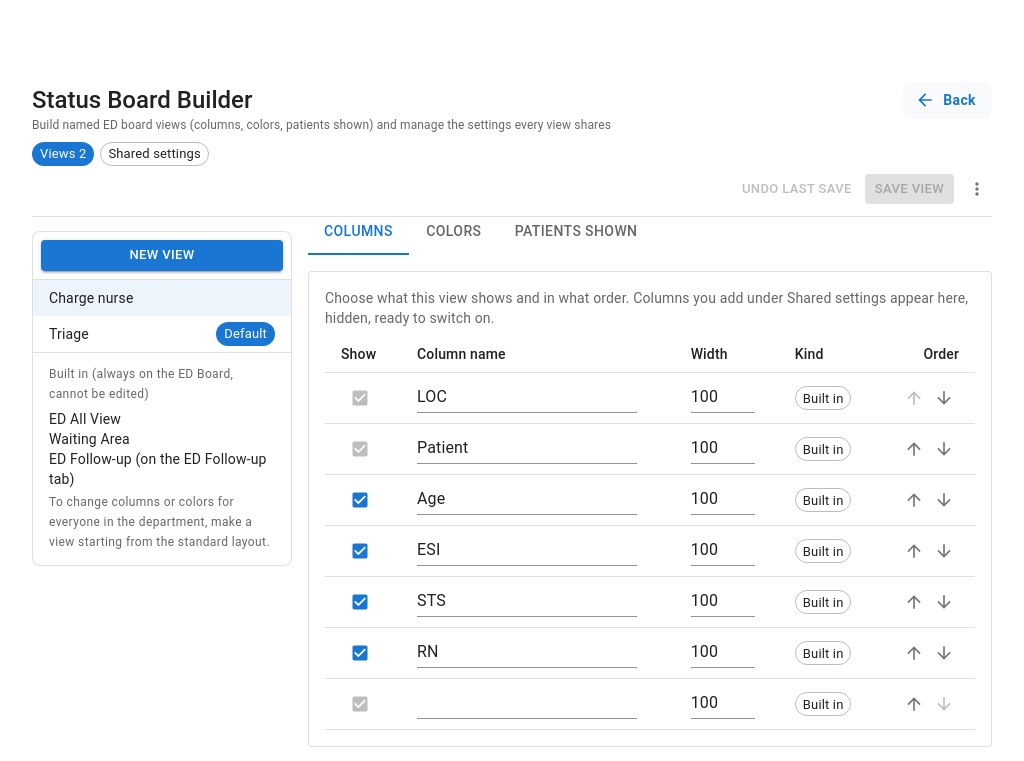
Test case: conditions on the patient › choosing a status starts on the clinic's first status
Expected: the button with test id "view-item-1" is shown, [33,280,291,316]
Click the tab "Patients shown" at {"x": 576, "y": 231}, box [499,207,653,255]
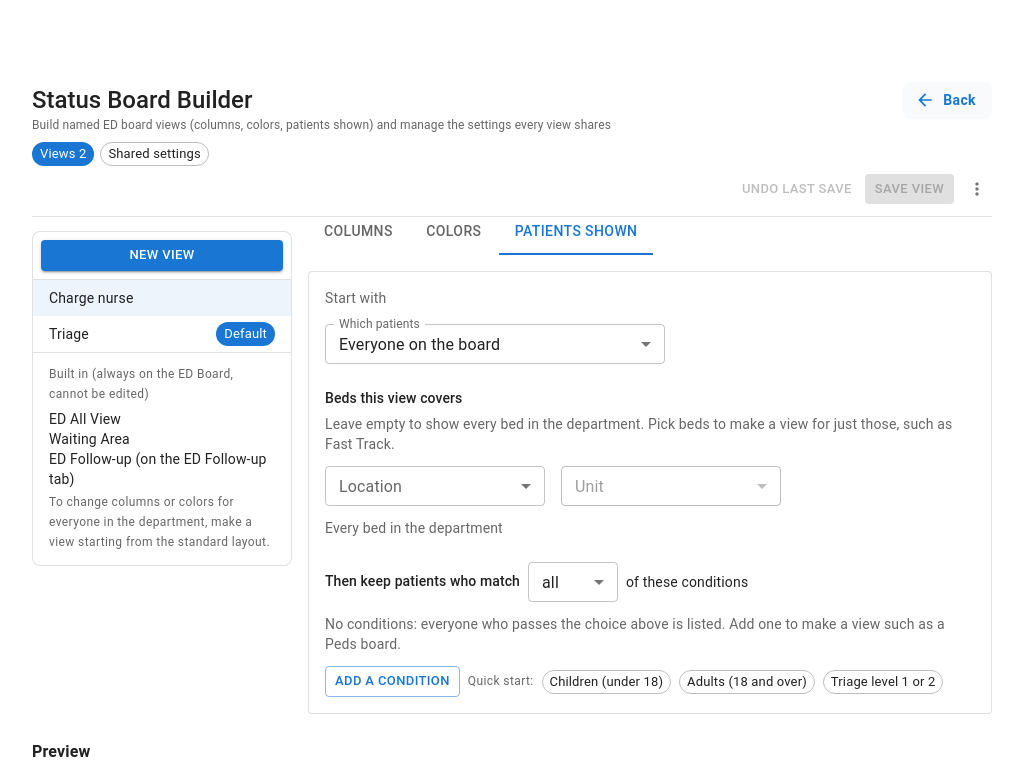
Click the button with test id "add-condition" at {"x": 392, "y": 682}, box [325,666,460,697]
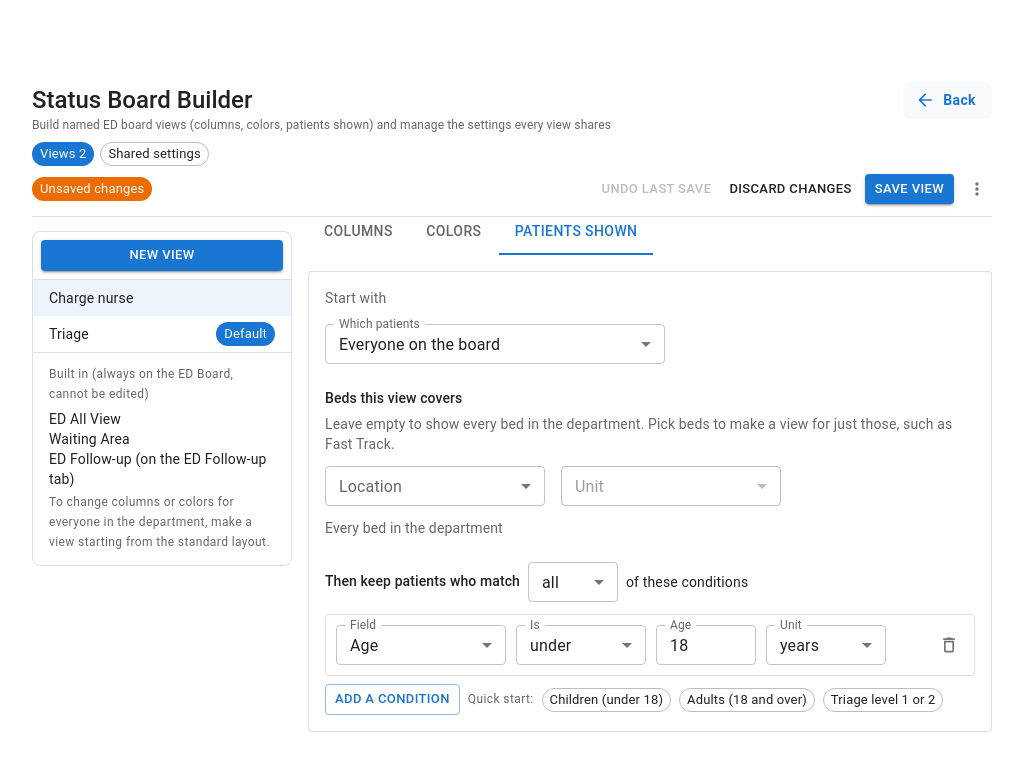
Press the mouse on the dropdown labelled "Age" at {"x": 364, "y": 645}, box [350,636,378,655]
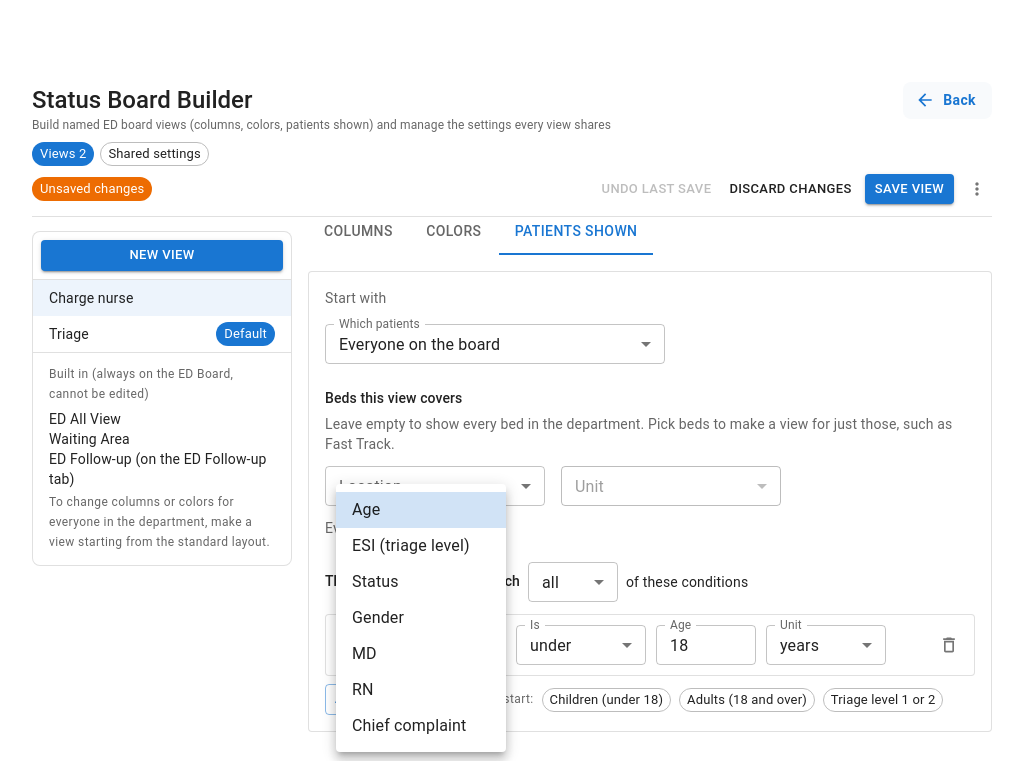
Click the option "Status" at {"x": 375, "y": 582}, box [352,572,399,591]
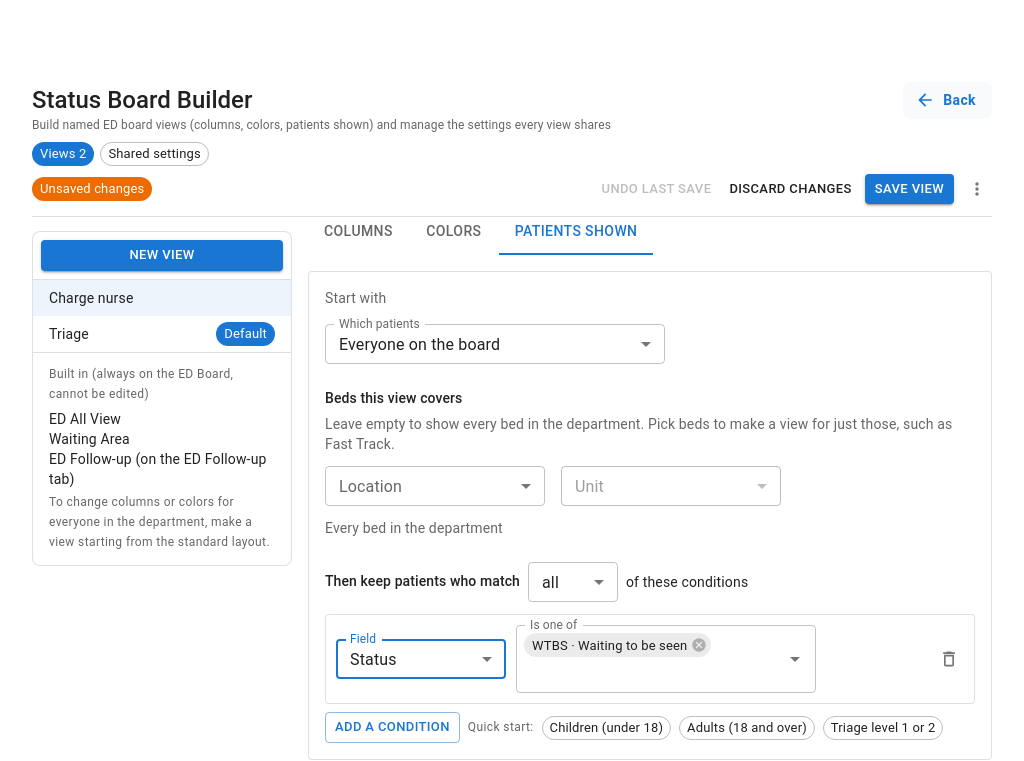
Expected: the button "Save view" is enabled, [865,174,954,204]
Expected: the text "WTBS · Waiting to be seen" is shown, [524,636,695,655]
